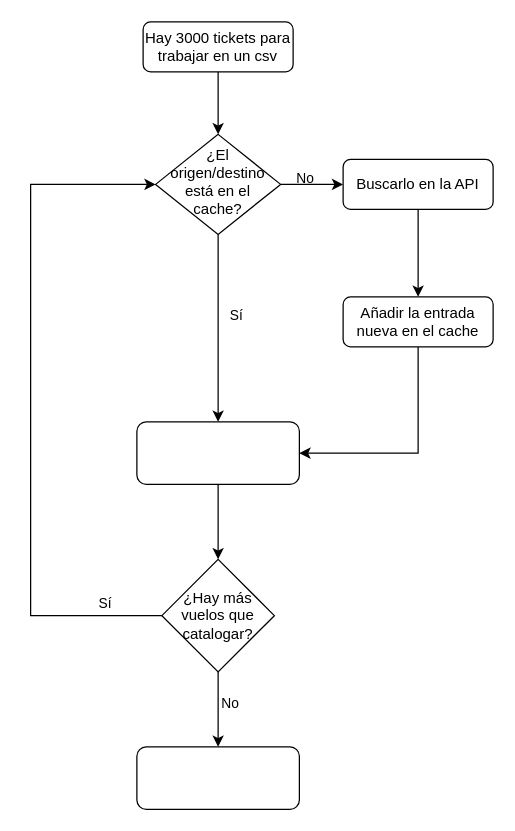
This 515x831 diagram has some shape labels left out. The shapes that lost their labels are listed below. From the top down, each one's centre as x and y in pixels, then its label:
the point at 217,452: Extraer el dato y añadirlo a una lista de origen/destino
the point at 217,777: Elaborar el csv con las listas resultantes.
